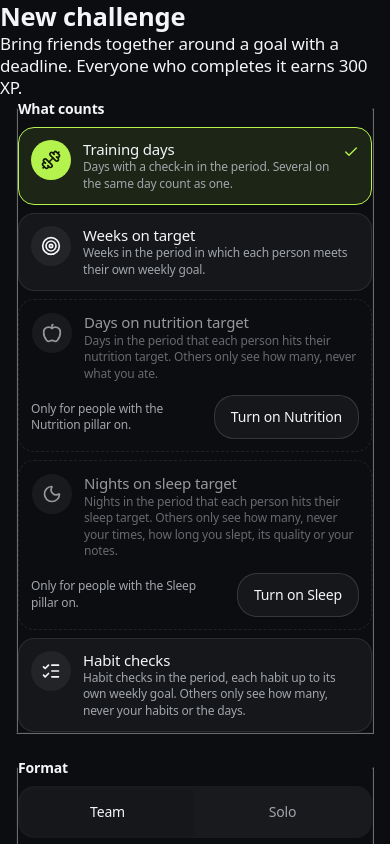
Scenario: NewChallengeSheet › the habits challenge › suggests checks from my Q of the week
This screenshot has width=390, height=844.
Click the radio button labelled "Habit checks". click: (195, 685)
box: [18,638,372,732]
(page scrolled)
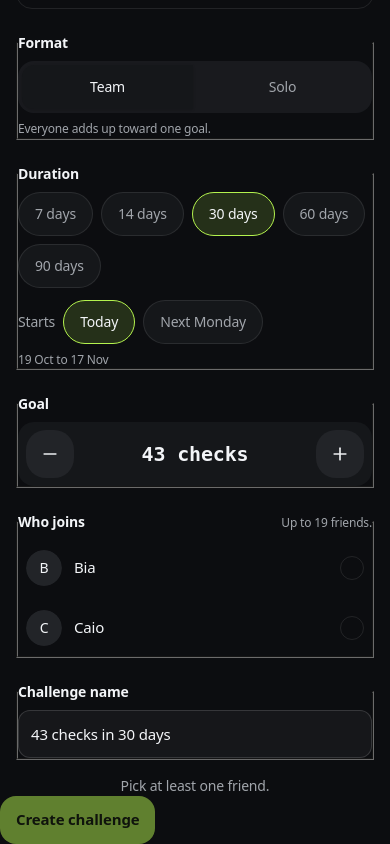
Now the text "43 checks" is shown, box [142,440,248,468]
Click the checkbox labelled "B Bia". click: (44, 568)
box: [18,540,372,596]
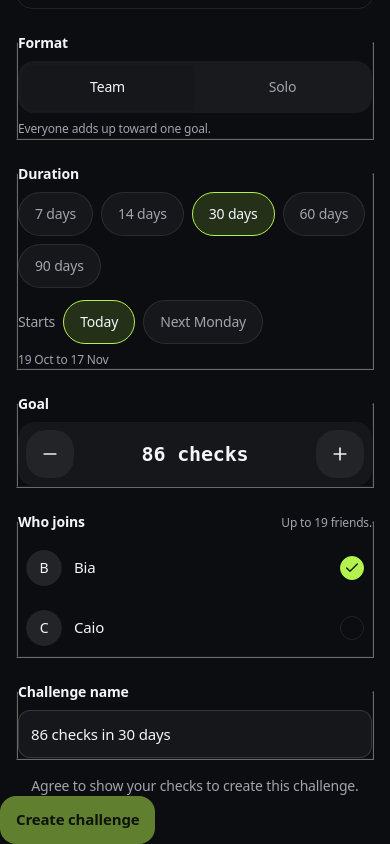
Now the text "86 checks" is shown, box [142,440,248,468]
Now the field named "Challenge name" holds "86 checks in 30 days", box [18,710,372,758]
Click the radio button labelled "Solo". click: (282, 87)
box: [197,65,368,109]
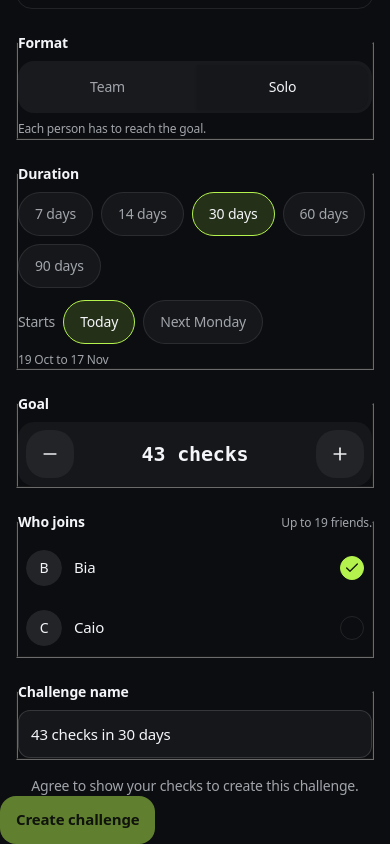
Click the button "7 days". click: (56, 214)
box: [18,192,93,236]
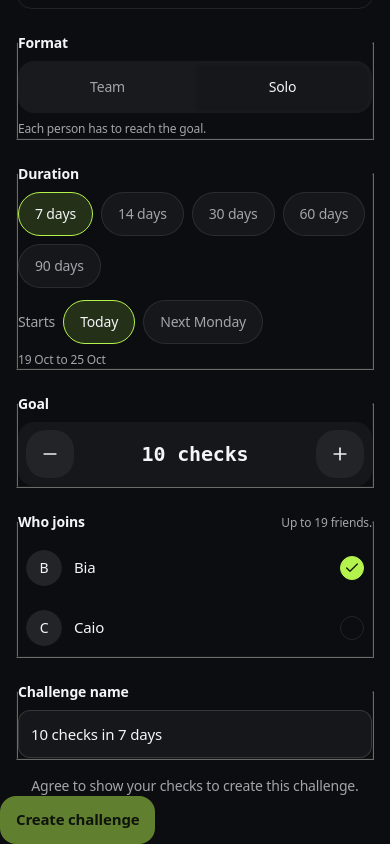
Now the text "10 checks" is shown, box [142,440,248,468]
Click the button named "More". click: (340, 454)
box: [316,430,364,478]
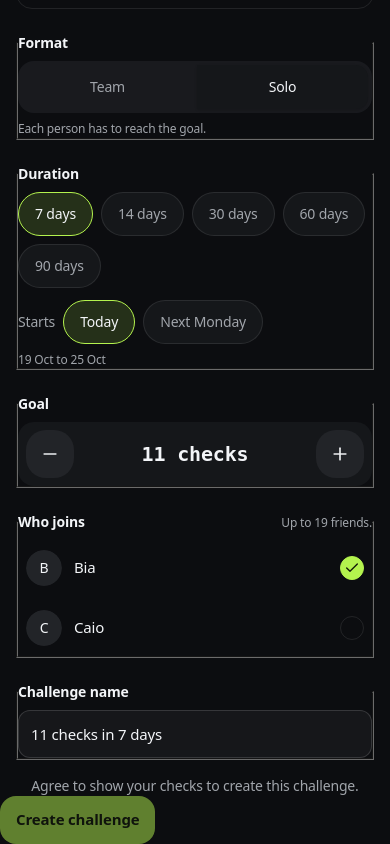
Now the text "11 checks" is shown, box [142,440,248,468]
